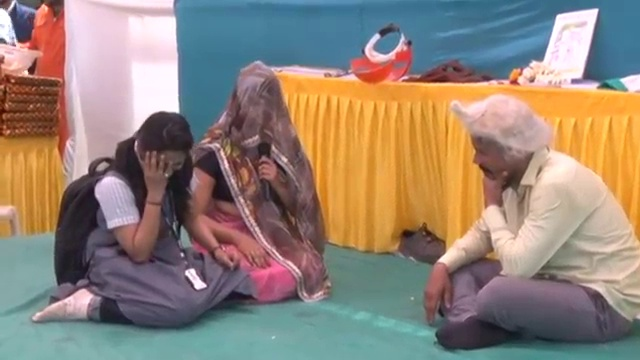helmet: (0, 44, 45, 80)
helmet_off: (459, 99, 548, 195), (124, 113, 191, 185), (229, 64, 285, 141)
person: (414, 92, 640, 350), (31, 106, 226, 327), (179, 59, 325, 298), (1, 1, 70, 78)
